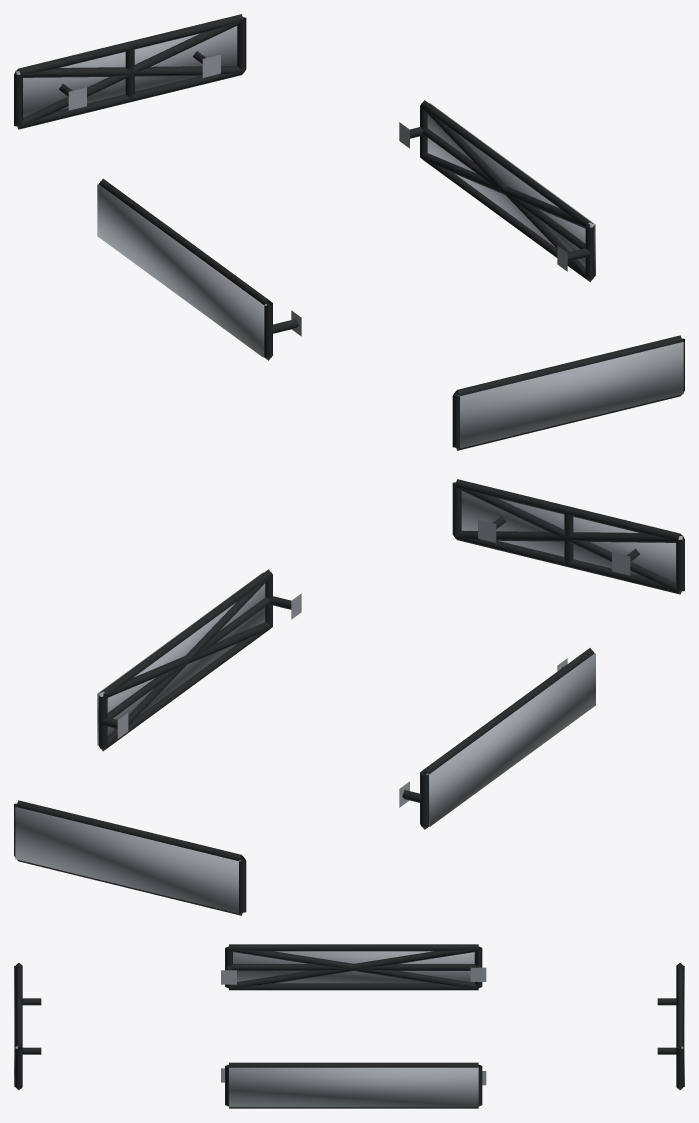
File: whitlock_lavoura_protecao.glb
The picture shows the model from 3 angles, top to bottom: view 1: azimuth 30°, elevation 25°; view 2: azimuth 150°, elevation 25°; view 3: azimuth 270°, elevation 25°; orthographic projection. The views are drawn at different scales.
Visible parts, largest first — view 1: Protection_front_Level3_Details, Protection_left_Level3_Details, Protection_rear_Level1_Details, Protection_rear_Level3_Details, Protection_right_Level1_Details, Protection_right_Level2_Details, Protection_rear_Level2_Details, Protection_right_Level3_Details, Protection_front_Level1_Details, Protection_left_Level1_Details; view 2: Protection_rear_Level3_Details, Protection_left_Level3_Details, Protection_front_Level1_Details, Protection_front_Level3_Details, Protection_right_Level1_Details, Protection_right_Level2_Details, Protection_front_Level2_Details, Protection_right_Level3_Details, Protection_rear_Level1_Details, Protection_left_Level1_Details; view 3: Protection_right_Level3_Details, Protection_left_Level2_Details, Protection_left_Level1_Details, Protection_left_Level3_Details, Protection_right_Level1_Details, Protection_rear_Level1_Details, Protection_front_Level1_Details.
Part boxes in pixels (box(x1,y1,x2,y2)): Protection_front_Level3_Details: box(458, 342, 683, 448); Protection_left_Level3_Details: box(97, 184, 266, 357); Protection_rear_Level1_Details: box(14, 14, 246, 129); Protection_rear_Level3_Details: box(15, 26, 237, 117); Protection_right_Level1_Details: box(399, 100, 594, 281); Protection_right_Level2_Details: box(420, 106, 593, 281); Protection_rear_Level2_Details: box(16, 21, 243, 128); Protection_right_Level3_Details: box(427, 103, 595, 276); Protection_front_Level1_Details: box(452, 335, 684, 450); Protection_left_Level1_Details: box(99, 178, 301, 360); Protection_rear_Level3_Details: box(15, 807, 240, 913); Protection_left_Level3_Details: box(426, 653, 595, 826); Protection_front_Level1_Details: box(452, 479, 684, 594); Protection_front_Level3_Details: box(461, 491, 683, 582); Protection_right_Level1_Details: box(98, 569, 301, 751); Protection_right_Level2_Details: box(99, 575, 272, 750); Protection_front_Level2_Details: box(455, 486, 682, 593); Protection_right_Level3_Details: box(97, 572, 265, 745); Protection_rear_Level1_Details: box(14, 800, 246, 915); Protection_left_Level1_Details: box(399, 648, 594, 829); Protection_right_Level3_Details: box(229, 1067, 478, 1107); Protection_left_Level2_Details: box(228, 948, 478, 988); Protection_left_Level1_Details: box(221, 944, 486, 990); Protection_left_Level3_Details: box(233, 951, 474, 983); Protection_right_Level1_Details: box(221, 1062, 486, 1108); Protection_rear_Level1_Details: box(657, 963, 683, 1089); Protection_front_Level1_Details: box(15, 963, 41, 1089).
Bounding box in the file's own units: 2.02 × 0.354 × 4.68.
Materials: 1 (1 with a texture image).
